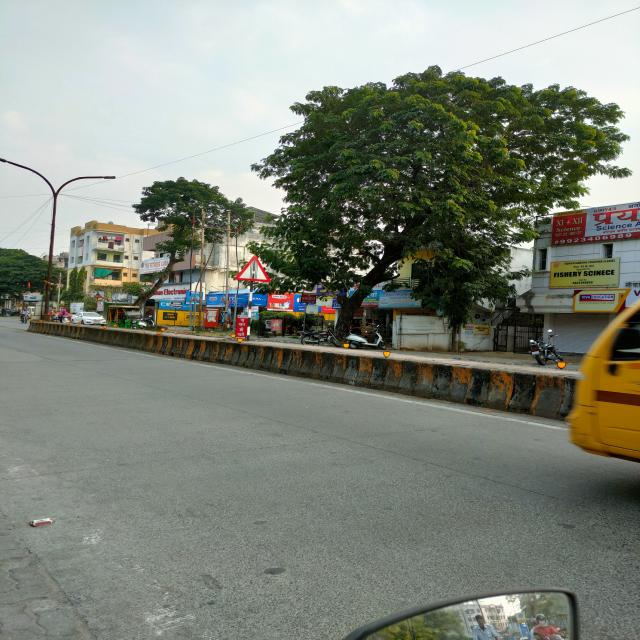ferry: (233, 254, 273, 282)
